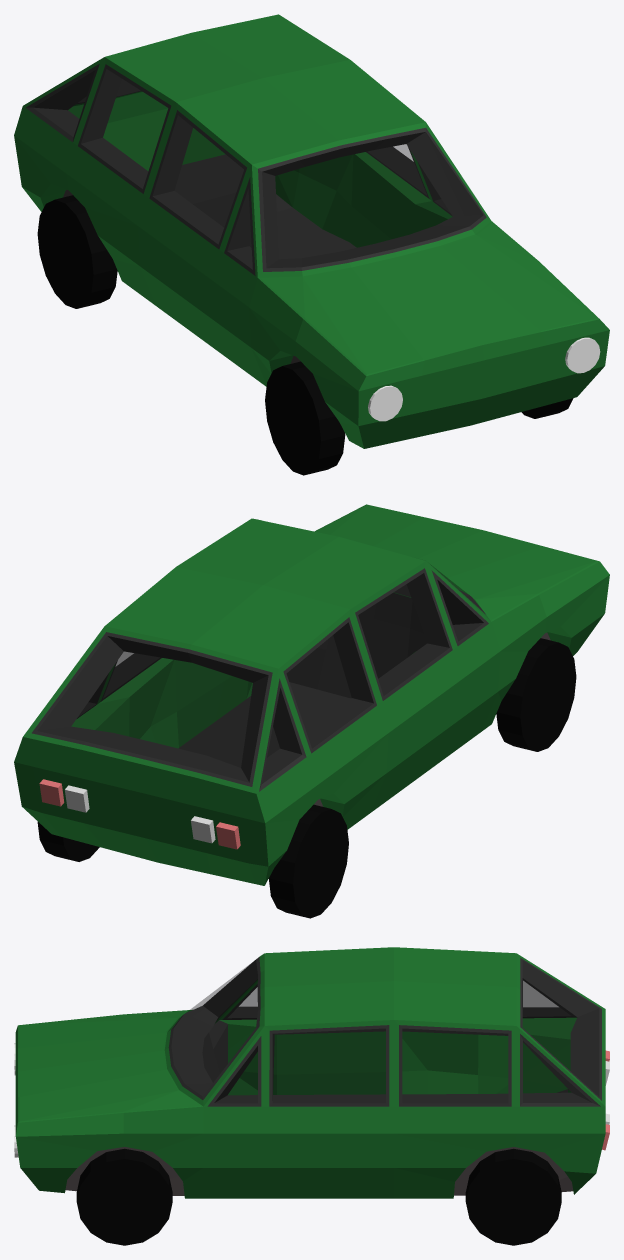
The model's file is cricket_mk2.gltf.
3 renders of one model, top to bottom at view 1: azimuth 30°, elevation 25°; view 2: azimuth 150°, elevation 25°; view 3: azimuth 270°, elevation 25°, orthographic. The views are drawn at different scales.
Visible parts, largest first — view 1: Body, Front Right Door.002, Front Left Door.002, Wheel_FR, Wheel_RR, Boot, Headlight_L, Headlight_R; view 2: Body, Boot, Front Right Door.002, Wheel_FR, Wheel_RR, Front Left Door.002, Wheel_RL; view 3: Body, Front Left Door.002, Front Right Door.002, Boot, Wheel_FL, Wheel_RL.
Part boxes in pixels (box(x1,y1,x2,y2)): Body: box(14, 14, 609, 448); Front Right Door.002: box(137, 102, 257, 361); Front Left Door.002: box(349, 145, 452, 247); Wheel_FR: box(265, 361, 345, 475); Wheel_RR: box(37, 195, 117, 308); Boot: box(68, 79, 224, 171); Headlight_L: box(565, 337, 600, 373); Headlight_R: box(368, 385, 402, 421); Body: box(14, 504, 609, 885); Boot: box(23, 626, 278, 862); Front Right Door.002: box(350, 561, 500, 812); Wheel_FR: box(496, 638, 576, 751); Wheel_RR: box(268, 804, 348, 918); Front Left Door.002: box(175, 660, 251, 747); Wheel_RL: box(37, 821, 99, 861); Body: box(15, 947, 605, 1198); Front Left Door.002: box(203, 1020, 393, 1198); Front Right Door.002: box(219, 981, 385, 1094); Boot: box(516, 953, 605, 1106); Wheel_FL: box(76, 1148, 172, 1245); Wheel_RL: box(465, 1148, 561, 1245).
Size of the model in its own units: 1.54 by 1.43 by 3.65.
